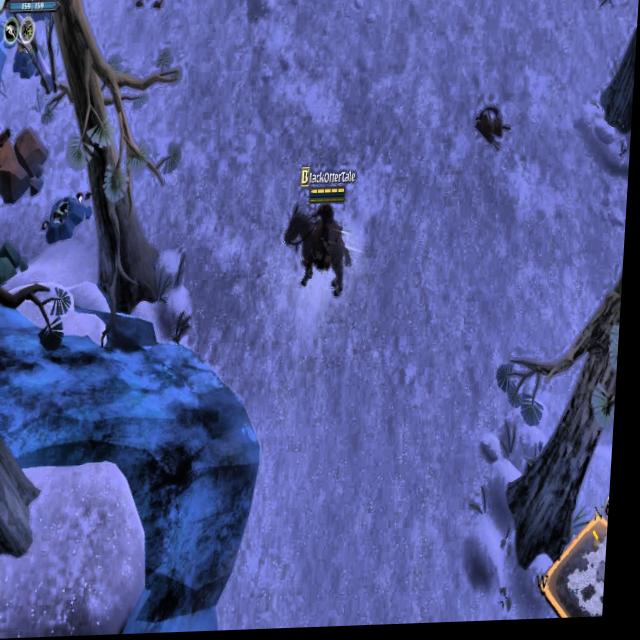copperore: (9, 24, 52, 85)
limestone: (0, 127, 56, 198)
sandstone: (0, 240, 33, 299)
